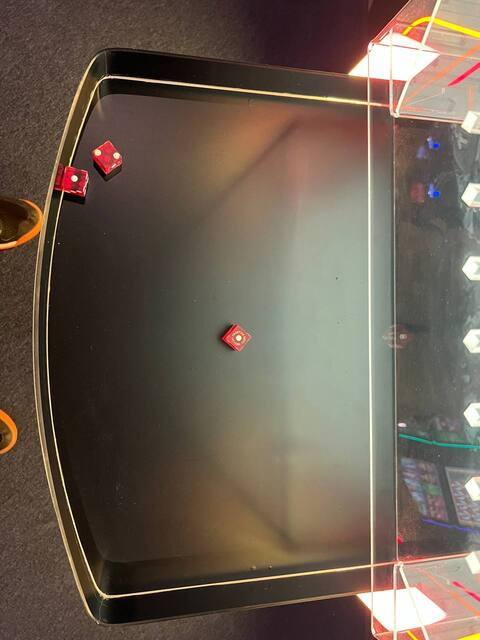one: (222, 323, 252, 353), (58, 165, 89, 194)
two: (89, 139, 126, 174)
